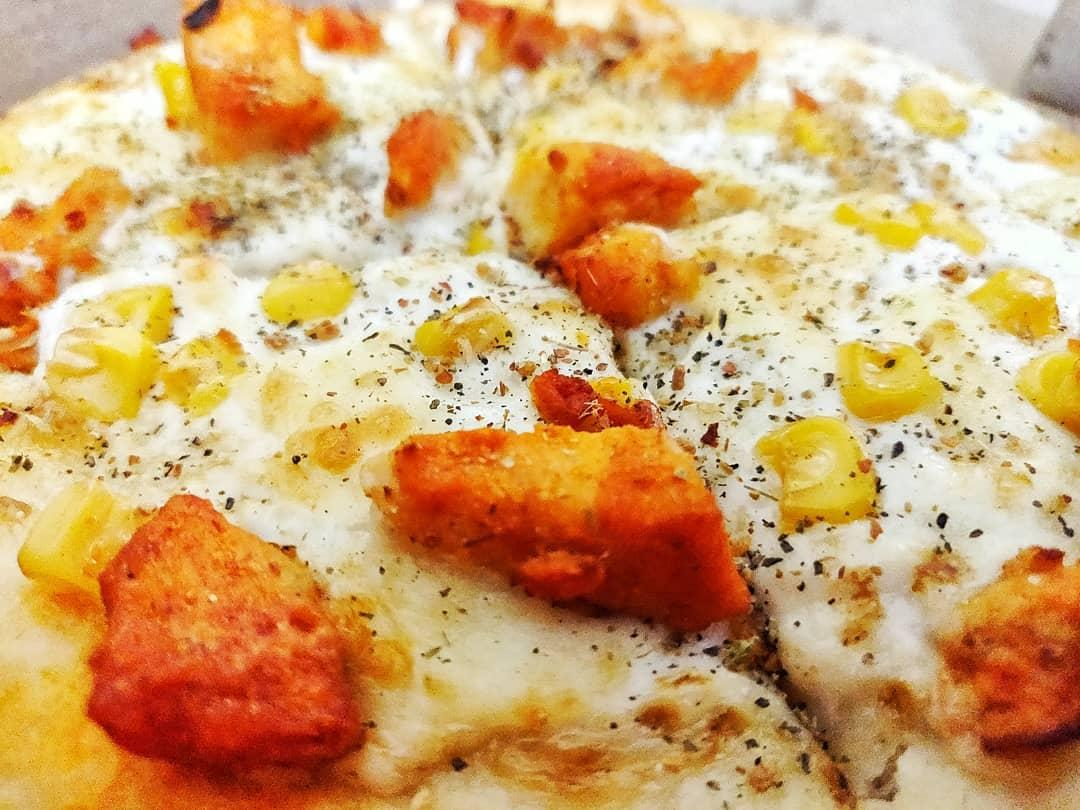Chicken: (97, 486, 373, 773), (377, 423, 757, 628), (499, 126, 726, 330), (957, 538, 1080, 763), (177, 0, 321, 150), (377, 102, 474, 215), (450, 0, 575, 63), (307, 0, 396, 46)
Corn: (755, 406, 886, 529), (14, 471, 125, 592), (830, 333, 946, 432), (395, 283, 520, 371), (45, 326, 161, 420), (249, 246, 377, 328), (960, 258, 1073, 342), (1007, 331, 1080, 447), (165, 315, 246, 415), (69, 283, 189, 342), (829, 186, 925, 259), (904, 185, 998, 254), (889, 76, 979, 148), (772, 96, 867, 160), (135, 53, 210, 126)
Pizza: (0, 0, 1080, 810)
